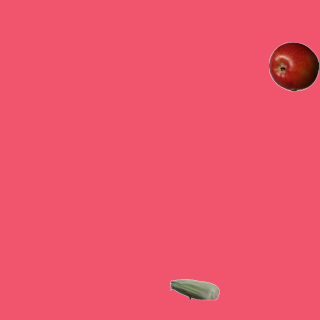Apple Braeburn: (268, 41, 318, 91)
Corn Husk: (169, 264, 219, 314)
